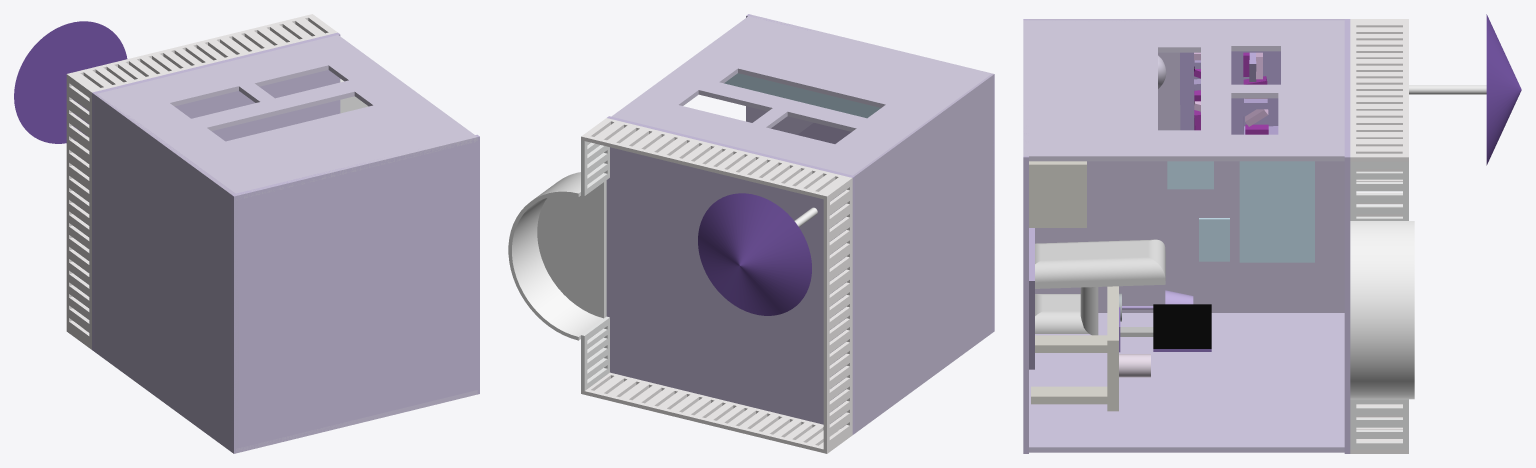
The model's file is Assembly 1.gltf.
3 views of the same model, side by side, from view 1: azimuth 30°, elevation 25°; view 2: azimuth 150°, elevation 25°; view 3: azimuth 270°, elevation 25° (orthographic). The views are drawn at different scales.
Visible parts, largest first — view 1: Part 1 (×8); view 2: Part 1 (×13); view 3: Part 1 (×27).
Boxes of the visible parts, left/top/right/bottom form: Part 1 (×8): left=14, top=14, right=479, bottom=453; Part 1 (×13): left=508, top=14, right=994, bottom=453; Part 1 (×27): left=1023, top=14, right=1521, bottom=453.
Size of the model in its own units: 0.1906 by 0.1492 by 0.2133.
